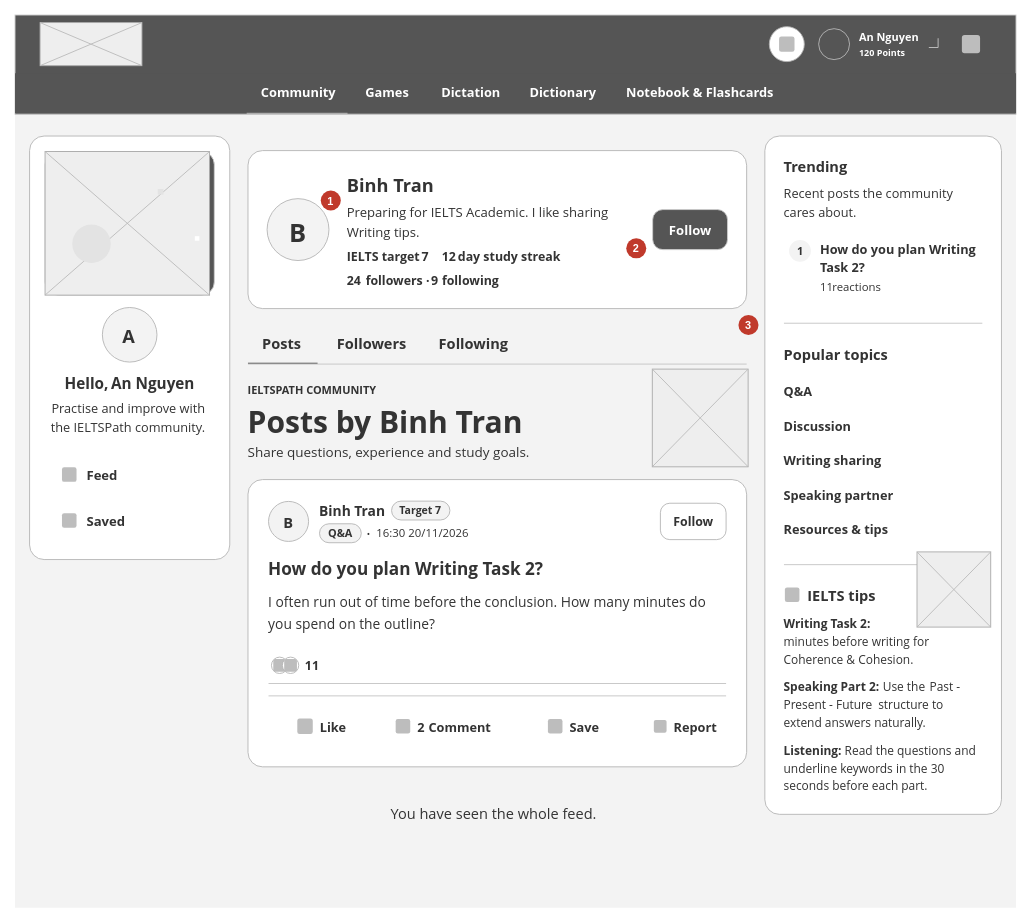
The diagram is 1031 pixels wide and 923 high, and some of its shapes have lost their labels. Here are the shapes that lost their labels. From the top down, the centre of each, then its label:
At point 834,44: "AN".
At point 953,589: "Outline for 5".
